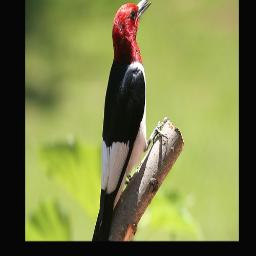Woodpecker: (90, 0, 157, 240)
